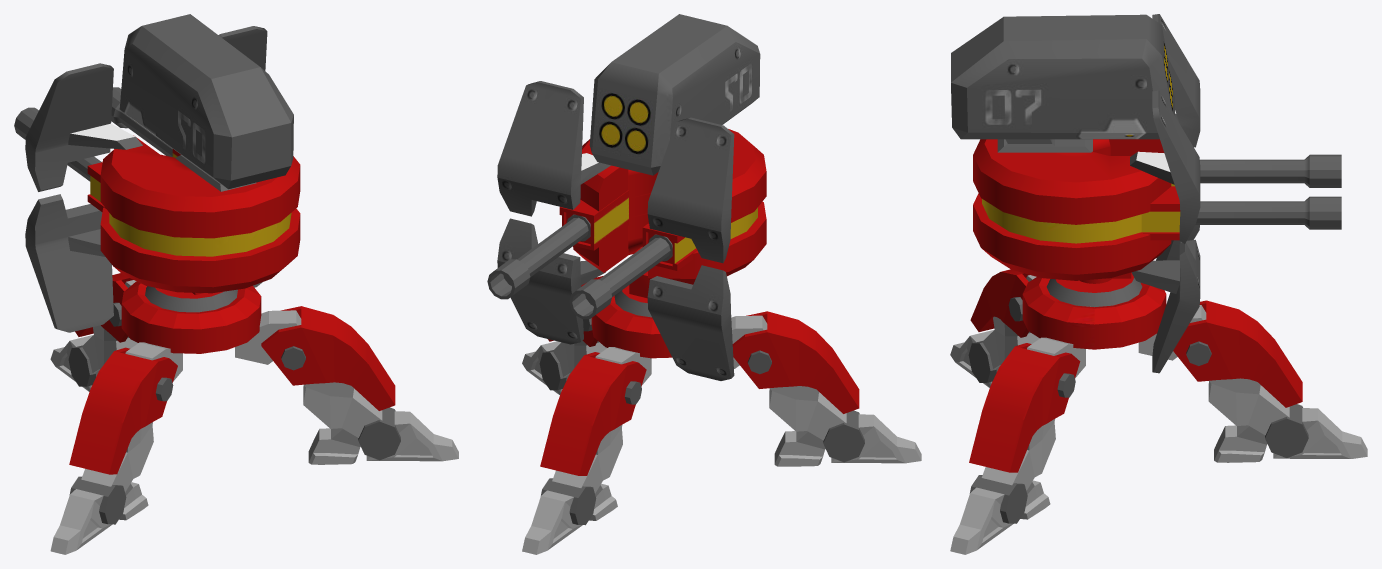
3 renders of one model, left to right at view 1: azimuth 30°, elevation 25°; view 2: azimuth 150°, elevation 25°; view 3: azimuth 270°, elevation 25°, orthographic. The views are drawn at different scales.
Parts seen in each view (by area): view 1: pCylinder5, pCube7, pCube5 (×3), group15_transform101_group15_transform101_pCube11 (×2), group15_transform101_group15_transform101_pCube10, pCylinder1, transform96_pCube4, transform96_pCube5, pCylinder3 (×3), pCube1 (×2), pCylinder6, pCylinder7 (+2 smaller); view 2: group15_transform101_group15_transform101_pCube11 (×2), pCube7, group15_transform101_group15_transform101_pCube10 (×2), pCube5 (×3), pCylinder5, transform96_pCube6, transform96_pCube4, pCylinder1, pCylinder3 (×3), pCylinder6, pCylinder7, pCube8 (+2 smaller); view 3: pCube7, pCylinder5, pCube5 (×3), pCylinder1, transform96_pCube5, transform96_pCube6, group15_transform101_group15_transform101_pCube11 (×2), group15_transform101_group15_transform101_pCube10, pCylinder7, pCylinder6, pCylinder3 (×3), transform96_pCube4 (+2 smaller).
Part boxes in pixels (x1=…): pCylinder5: x1=100, y1=135, x2=300, y2=293; pCube7: x1=119, y1=14, x2=293, y2=191; pCube5 (×3): x1=50, y1=325, x2=458, y2=554; group15_transform101_group15_transform101_pCube11 (×2): x1=25, y1=26, x2=267, y2=191; group15_transform101_group15_transform101_pCube10: x1=25, y1=194, x2=113, y2=332; pCylinder1: x1=121, y1=281, x2=261, y2=353; transform96_pCube4: x1=69, y1=347, x2=177, y2=474; transform96_pCube5: x1=261, y1=306, x2=395, y2=410; pCylinder3 (×3): x1=68, y1=345, x2=400, y2=524; pCube1 (×2): x1=125, y1=310, x2=301, y2=381; pCylinder6: x1=111, y1=87, x2=172, y2=156; pCylinder7: x1=14, y1=107, x2=101, y2=181; group15_transform101_group15_transform101_pCube11 (×2): x1=497, y1=81, x2=734, y2=263; pCube7: x1=589, y1=14, x2=760, y2=175; group15_transform101_group15_transform101_pCube10 (×2): x1=497, y1=218, x2=734, y2=380; pCube5 (×3): x1=522, y1=341, x2=921, y2=554; pCylinder5: x1=573, y1=129, x2=766, y2=284; transform96_pCube6: x1=540, y1=352, x2=646, y2=475; transform96_pCube4: x1=732, y1=311, x2=859, y2=413; pCylinder1: x1=591, y1=285, x2=672, y2=358; pCylinder3 (×3): x1=539, y1=350, x2=864, y2=525; pCylinder6: x1=487, y1=214, x2=590, y2=299; pCylinder7: x1=569, y1=234, x2=672, y2=319; pCube8: x1=559, y1=190, x2=628, y2=250; pCube7: x1=951, y1=14, x2=1174, y2=152; pCylinder5: x1=973, y1=139, x2=1171, y2=280; pCube5 (×3): x1=950, y1=316, x2=1367, y2=554; pCylinder1: x1=1022, y1=272, x2=1166, y2=349; transform96_pCube5: x1=969, y1=343, x2=1080, y2=472; transform96_pCube6: x1=1173, y1=300, x2=1302, y2=407; group15_transform101_group15_transform101_pCube11 (×2): x1=1130, y1=14, x2=1200, y2=243; group15_transform101_group15_transform101_pCube10: x1=1131, y1=239, x2=1200, y2=373; pCylinder7: x1=1200, y1=154, x2=1341, y2=187; pCylinder6: x1=1195, y1=196, x2=1341, y2=229; pCylinder3 (×3): x1=968, y1=341, x2=1308, y2=523; transform96_pCube4: x1=970, y1=269, x2=1029, y2=337.
Bounding box in the file's own units: 5.4 × 5.29 × 4.68.
1 material, 1 textured.
